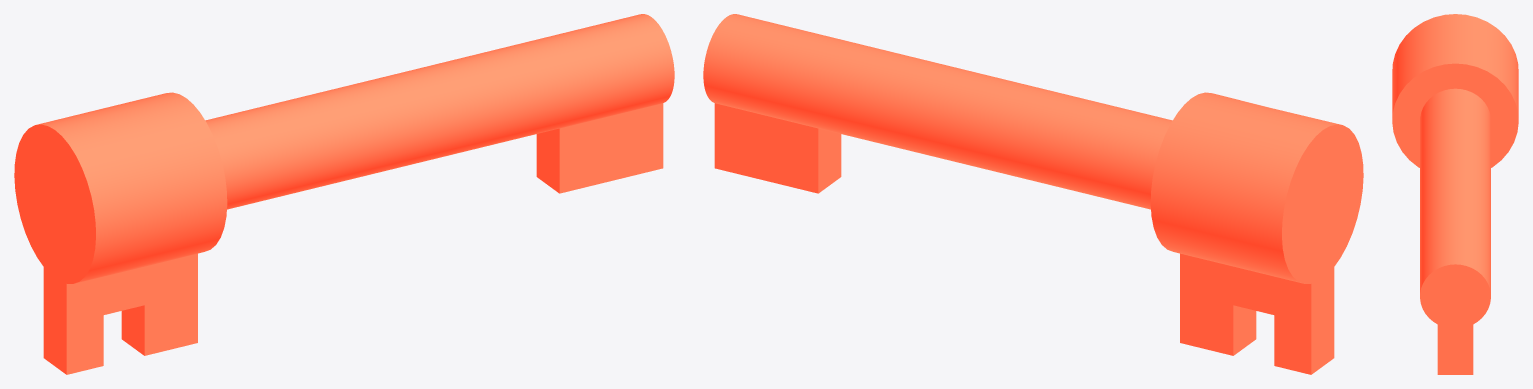
Rendered from clef2arouge.gltf.
3 renders of one model, left to right at view 1: azimuth 30°, elevation 25°; view 2: azimuth 150°, elevation 25°; view 3: azimuth 270°, elevation 25°, orthographic. The views are drawn at different scales.
Parts seen in each view (by area): view 1: cle; view 2: cle; view 3: cle.
Part boxes in pixels (x1=…): cle: x1=14, y1=14, x2=674, y2=374; cle: x1=703, y1=14, x2=1363, y2=374; cle: x1=1392, y1=14, x2=1518, y2=374.
Bounding box in the file's own units: 0.15 × 0.0568 × 0.0356.
